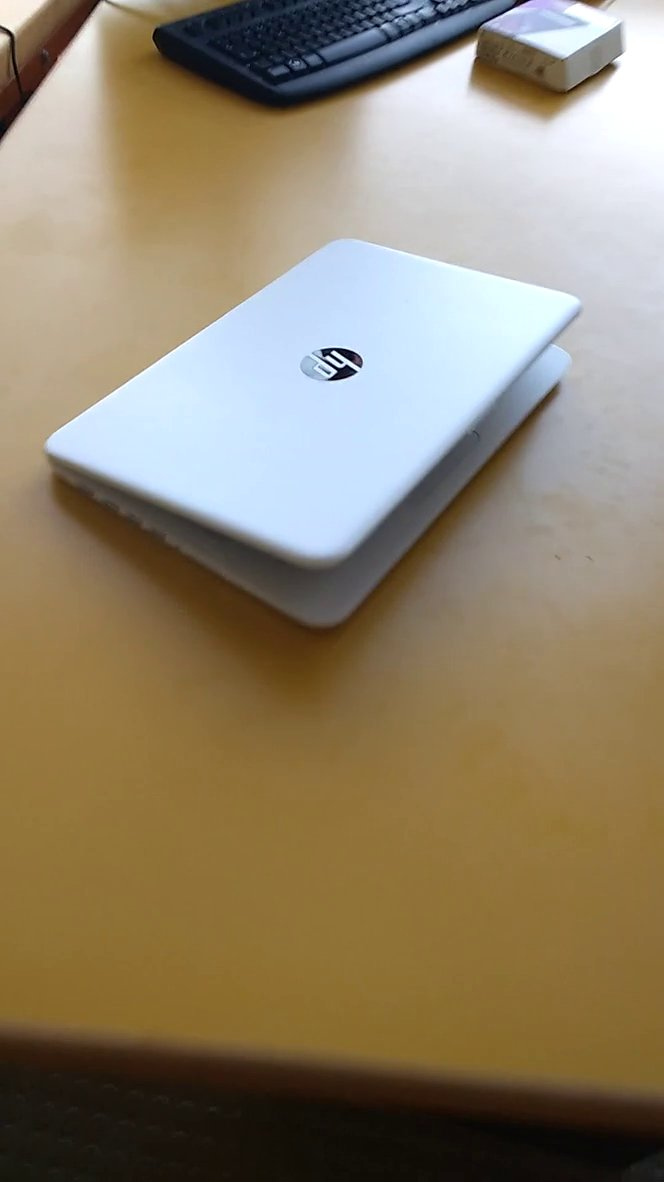laptop: (30, 228, 593, 668)
